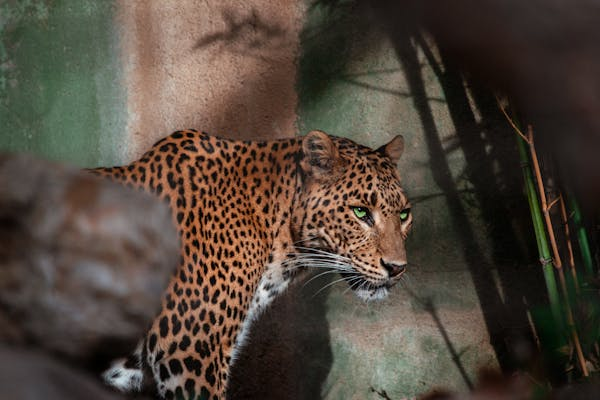Leopard: (74, 127, 415, 400)
